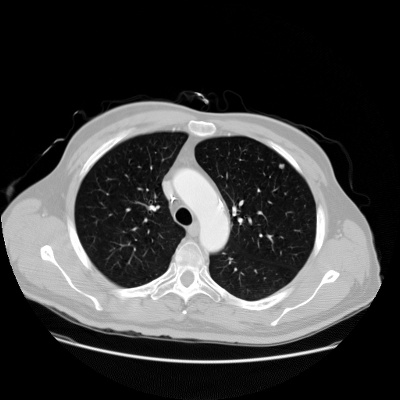PN: (278, 163, 284, 169)
